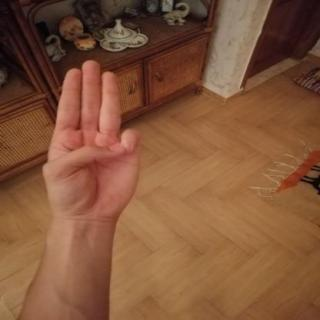THA: (33, 51, 152, 227)
